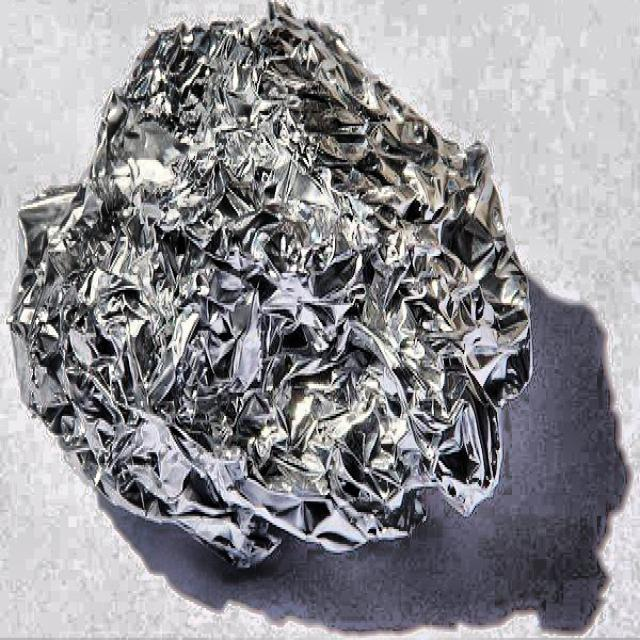Foil: (5, 0, 538, 585)
